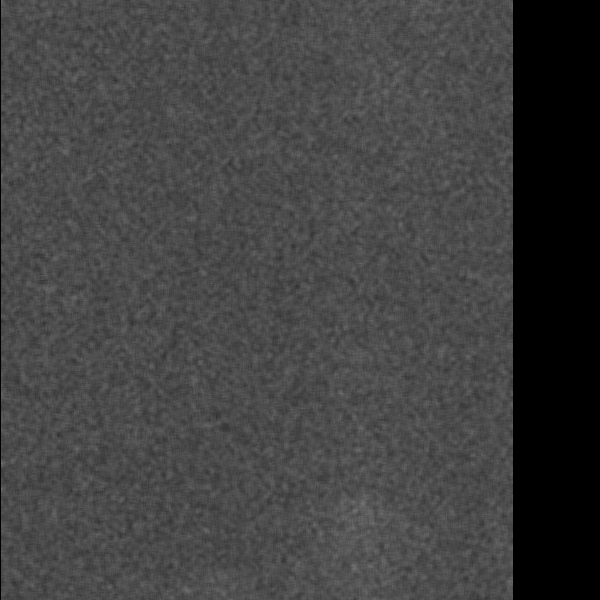spark: (341, 496, 393, 600), (184, 250, 221, 296)
